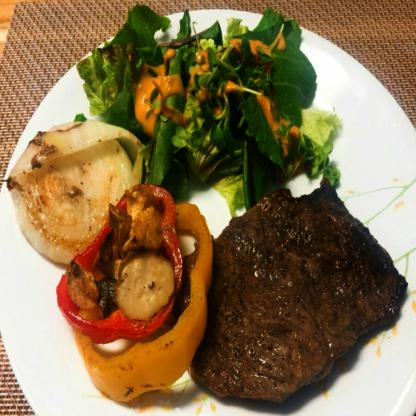Carne: (193, 182, 409, 401)
